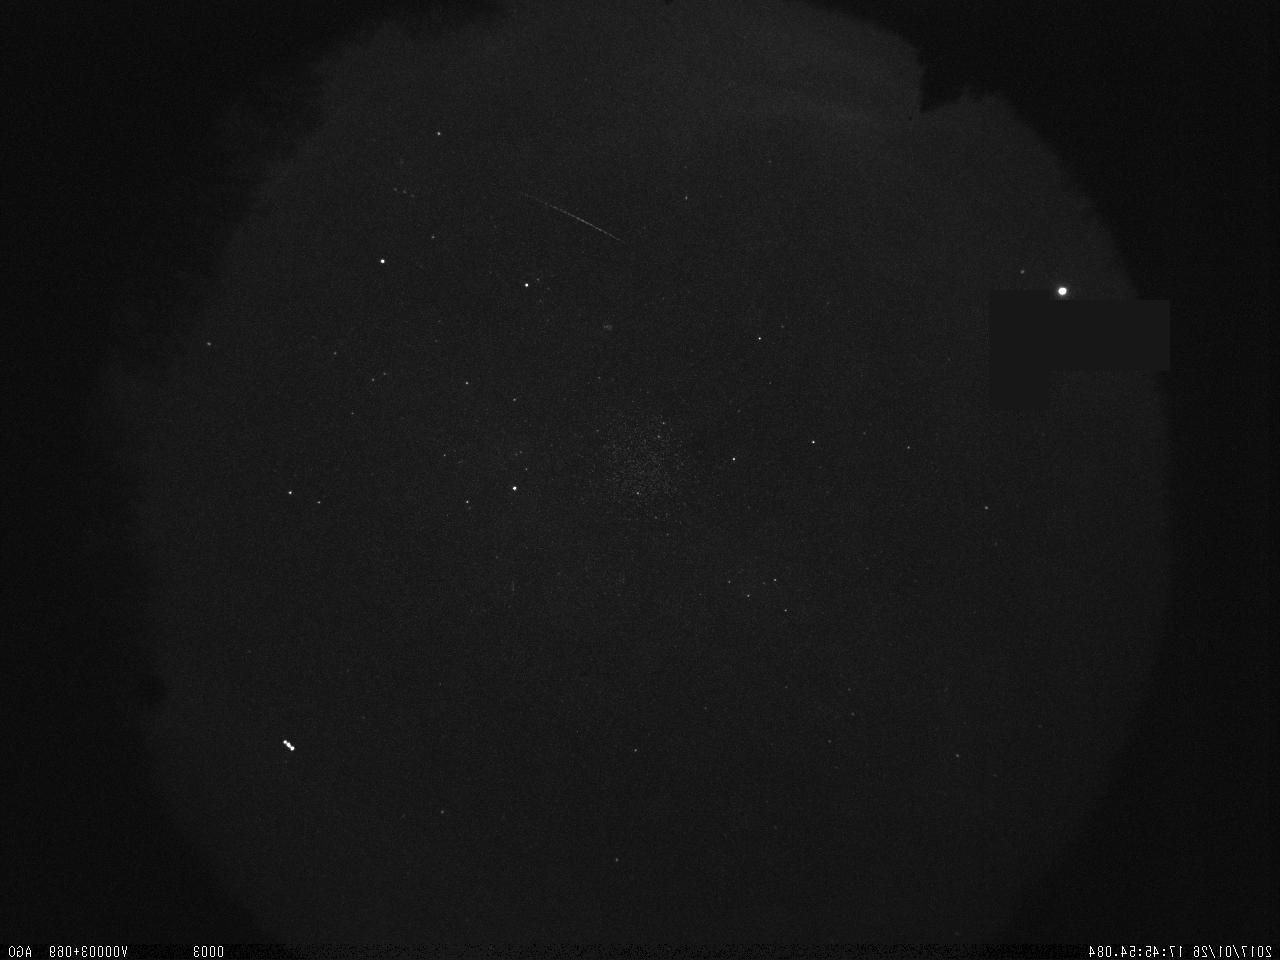meteor: (499, 177, 642, 265)
